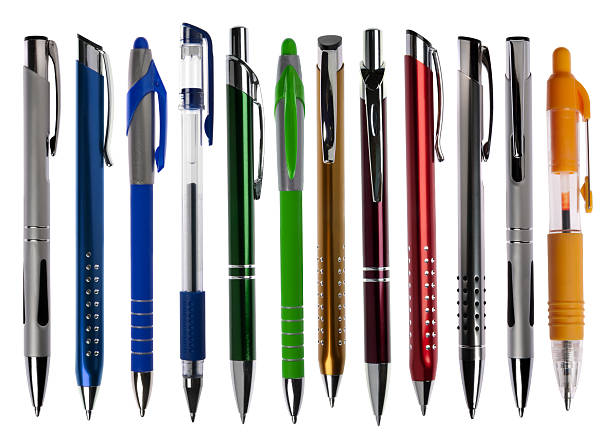pen: (402, 22, 450, 425), (12, 29, 61, 423), (68, 27, 117, 421), (123, 28, 172, 420), (224, 4, 268, 430), (546, 27, 593, 415), (177, 13, 219, 426), (455, 20, 497, 422), (273, 20, 312, 426), (501, 29, 541, 420), (360, 20, 395, 432), (316, 25, 349, 417)
